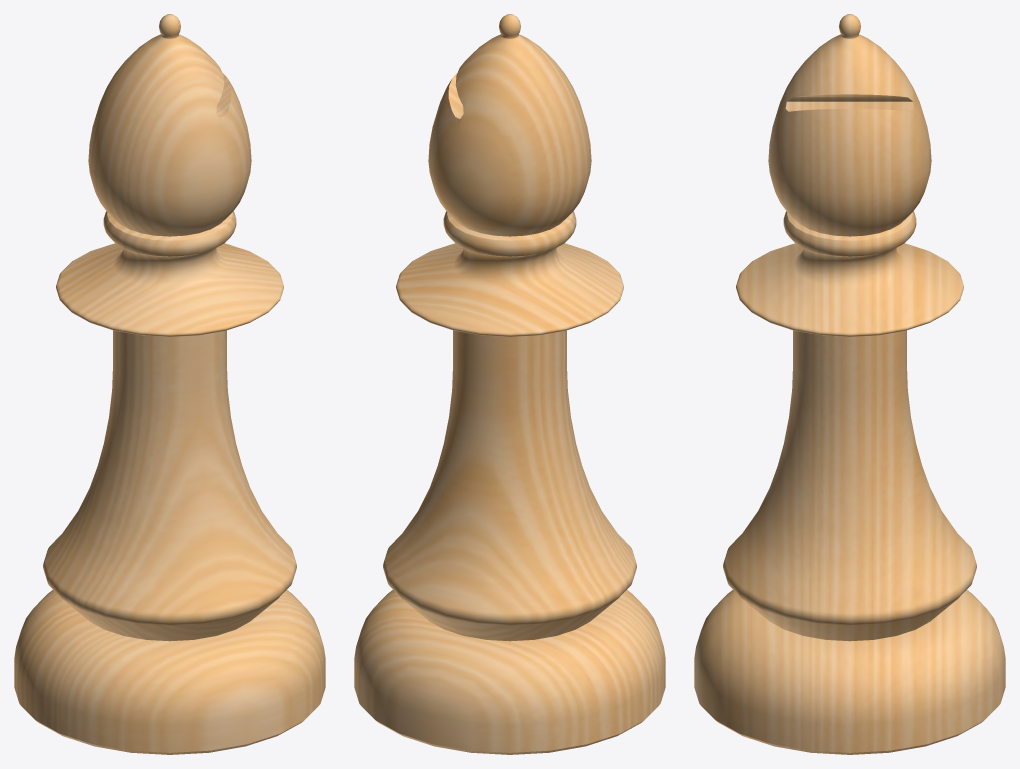
The model's file is white_bishop.gltf.
The picture shows the model from 3 angles, left to right: view 1: azimuth 30°, elevation 25°; view 2: azimuth 150°, elevation 25°; view 3: azimuth 270°, elevation 25°; orthographic projection.
Parts seen in each view (by area): view 1: Material2.012; view 2: Material2.012; view 3: Material2.012.
Part boxes in pixels (box(x1,y1,x2,y2)): Material2.012: box(14, 14, 325, 754); Material2.012: box(354, 14, 665, 754); Material2.012: box(694, 14, 1005, 754).
Bounding box in the file's own units: 0.1811 × 0.4335 × 0.1811.
1 material, 1 textured.
